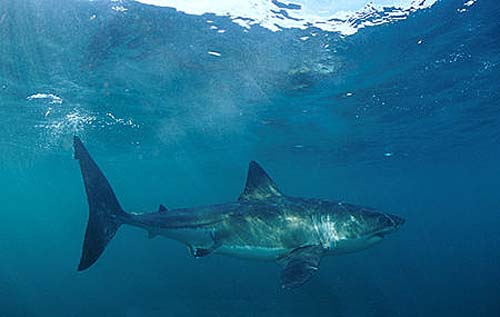Carcharodon_carcharias: (49, 125, 422, 298)
